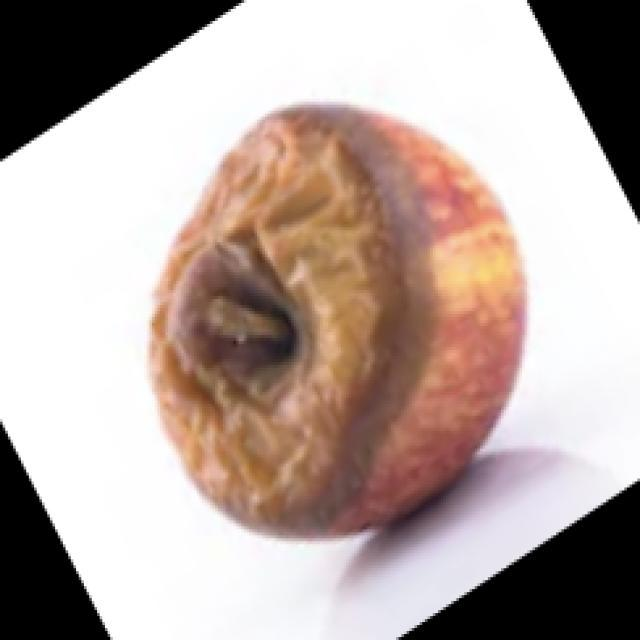Rotten: (132, 98, 542, 562)
